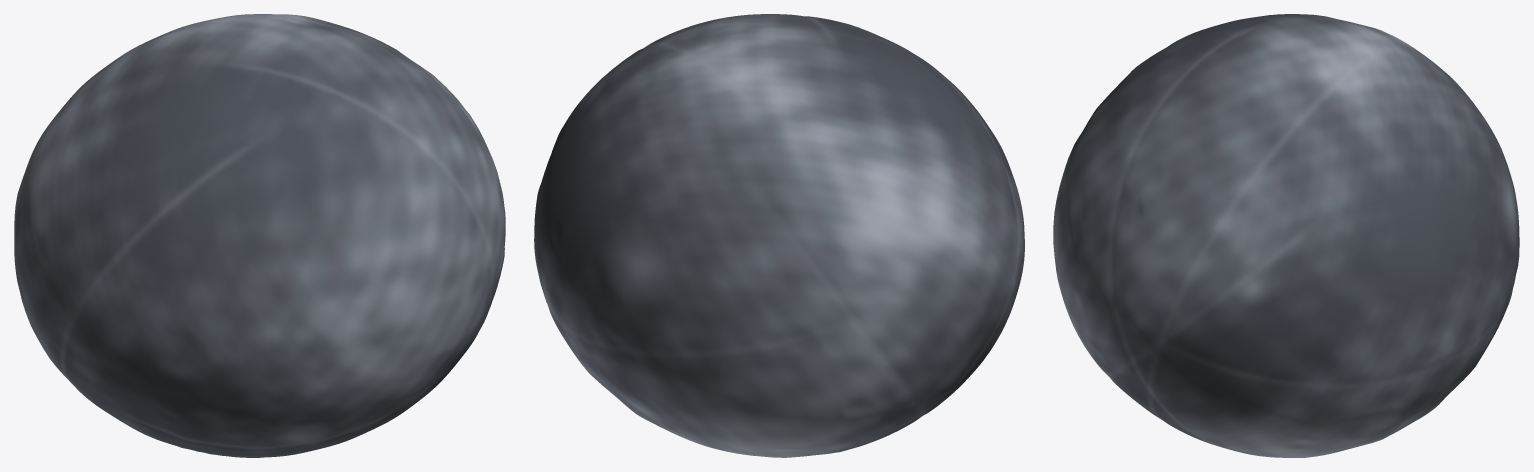
Rendered from pallas.glb.
3 renders of one model, left to right at view 1: azimuth 30°, elevation 25°; view 2: azimuth 150°, elevation 25°; view 3: azimuth 270°, elevation 25°, orthographic.
Visible parts, largest first — view 1: pallas_body; view 2: pallas_body; view 3: pallas_body.
Part boxes in pixels (x1,y1,x2,y2): pallas_body: (14,14,505,457); pallas_body: (534,14,1024,457); pallas_body: (1053,14,1519,457).
Size of the model in its own units: 2.07 by 1.82 by 1.96.
Materials: 1 (1 with a texture image).
